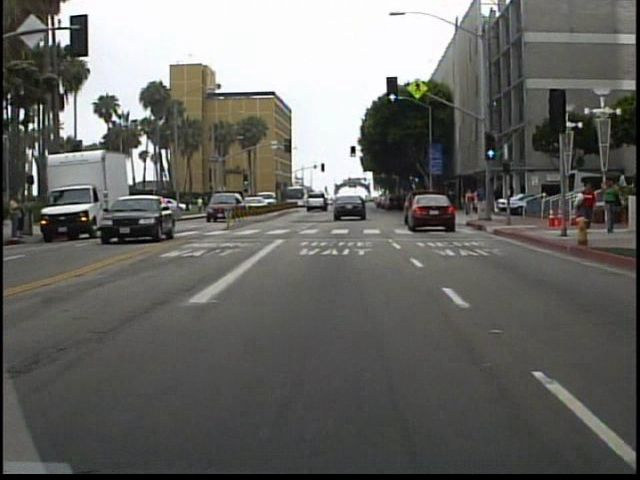person: (10, 193, 28, 239), (462, 187, 478, 220), (475, 183, 489, 219), (491, 183, 505, 217)
